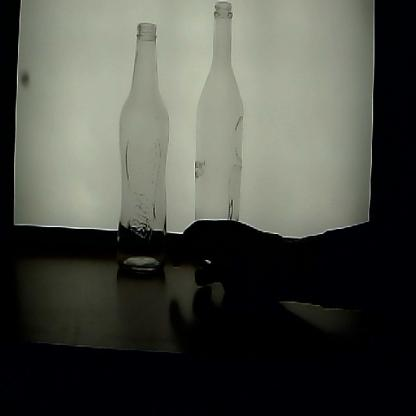Can: (192, 3, 246, 296), (118, 19, 168, 271)
